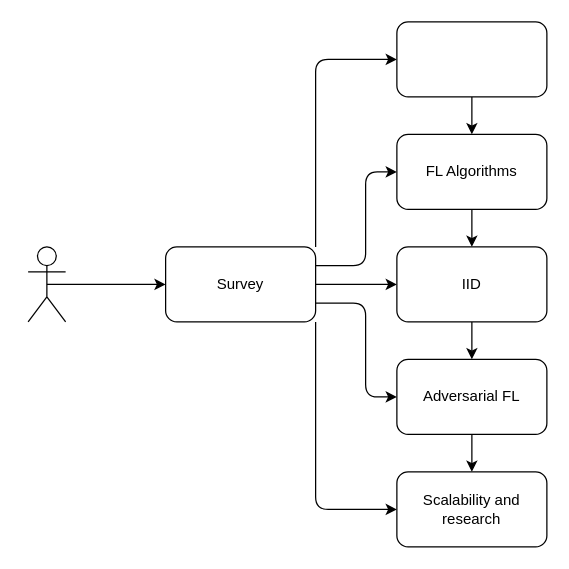
The diagram is 569 pixels wide and 569 high, and some of its shapes have lost their labels. The shapes that lost their labels are listed below. From the top down, each one's centre as x and y in pixels, then its label:
At point (471, 59): "FL Intro".
At point (46, 284): "Learner".
